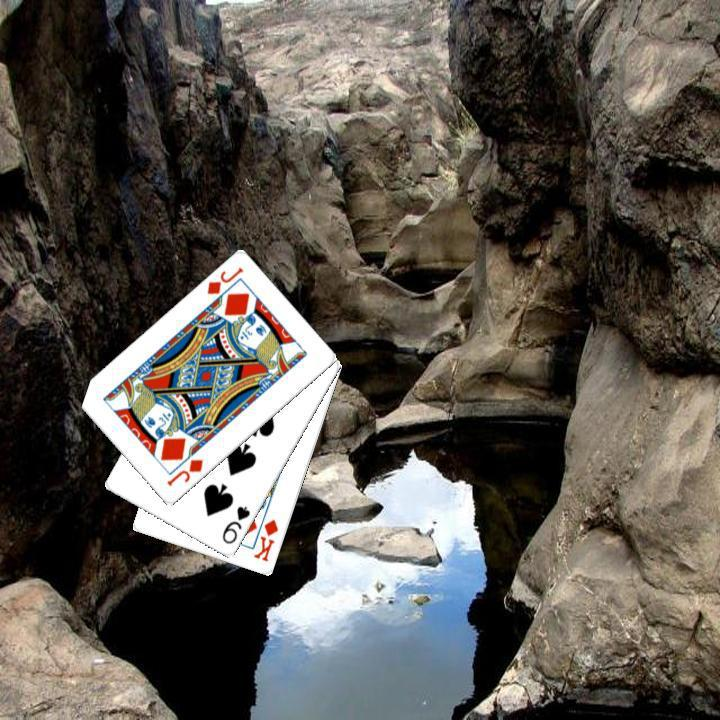9: (218, 502, 252, 546)
J: (162, 455, 205, 489), (202, 263, 245, 297)
K: (249, 515, 281, 564)
